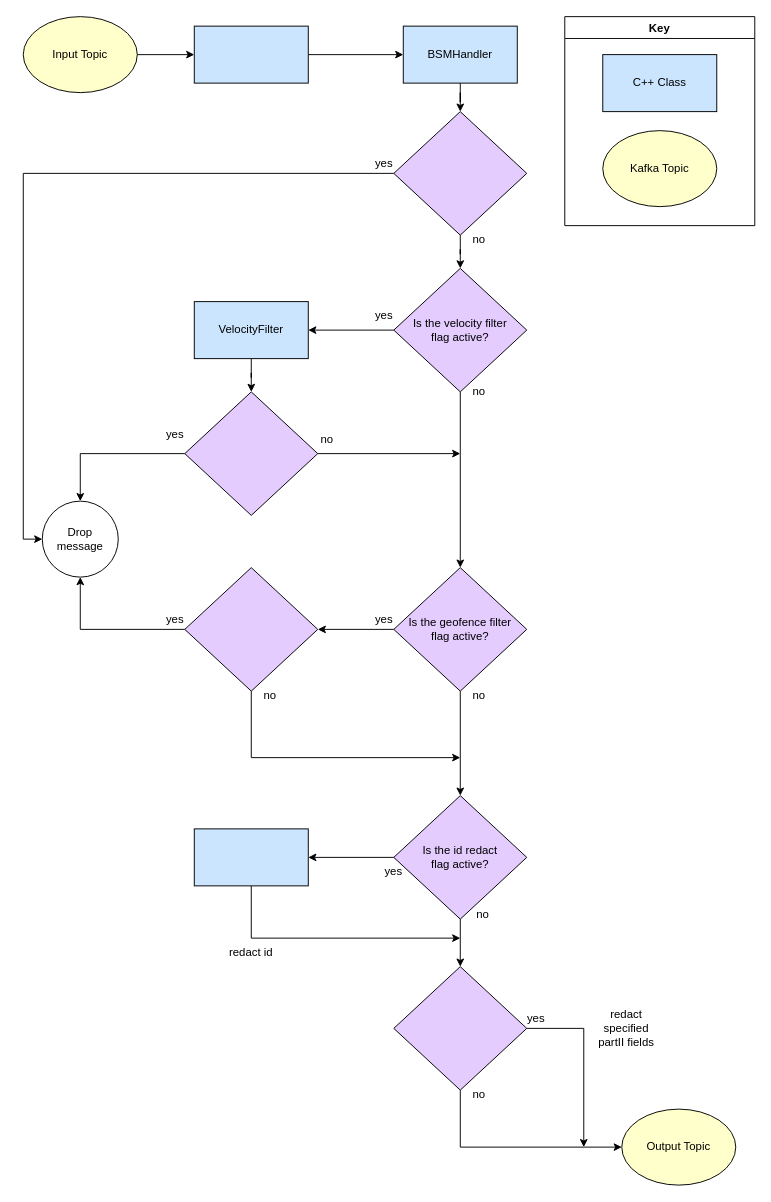
The diagram is 771 pixels wide and 1202 high, and some of its shapes have lost their labels. The centre of each missing label's shape, as x and y in pixels:
"IdRedactor" belongs at point 250,857.
"Is message outside geofence?" belongs at point 251,629.
"Is the partII redact flag active?" belongs at point 460,1028.
"Is velocity outside the expected range?" belongs at point 251,453.
"Parse error or missing data?" belongs at point 460,173.
"PPM" belongs at point 250,54.
